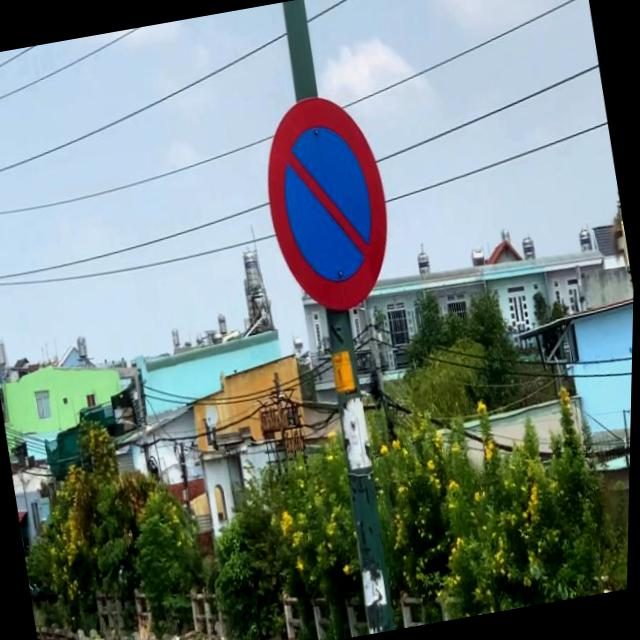Cam do xe: (249, 80, 409, 322)
